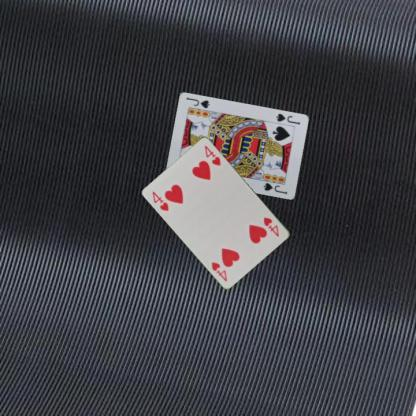4h: (150, 188, 171, 213), (261, 214, 280, 238)
Js: (273, 111, 301, 126)
